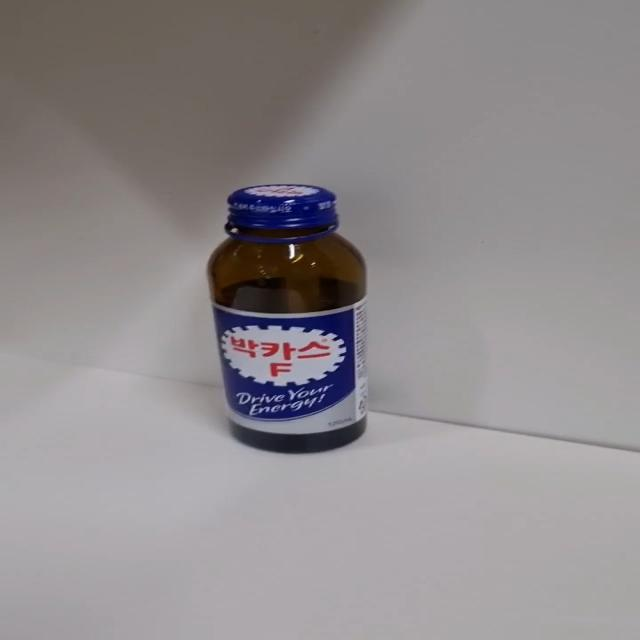Glass: (205, 184, 369, 455)
